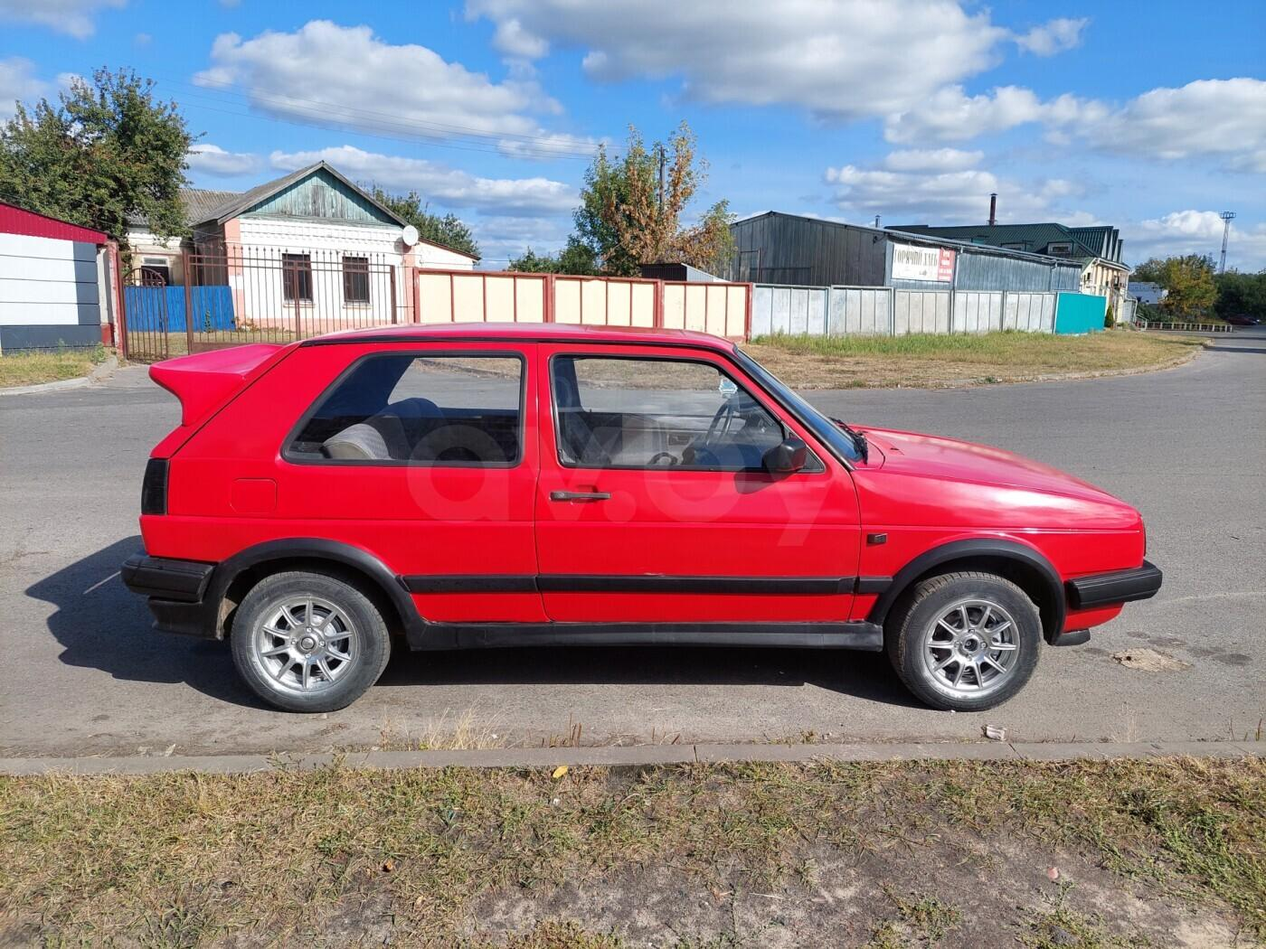Golf_1983-1992: (136, 324, 1163, 719)
